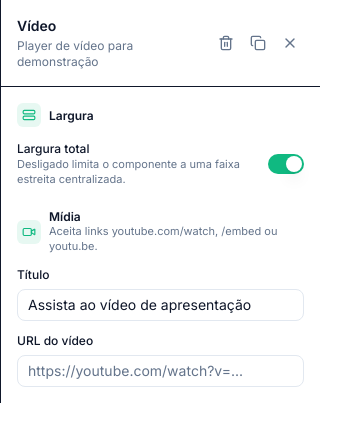
Test: PropertyPanel: novos controles › URL de vídeo mostra validação ao vivo
The width and height of the screenshot is (337, 448).
Type "notaurl" into the field with placeholder "https://youtube.com/watch?v=..." at [160, 370], box [17,354,304,386]
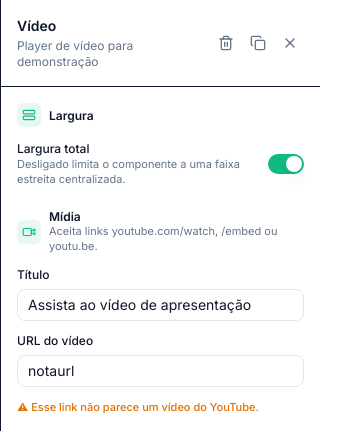
expect the text "⚠ Esse link não parece um vídeo do YouTube." is shown: met, box [17,400,259,414]
Replace the text in the field with placeholder "https://youtube.com/watch?v=..." below "URL do vídeo" with "https://www.youtube.com/watch?v=dQw4w9WgXcQ" at [160, 370], box [17,354,304,386]
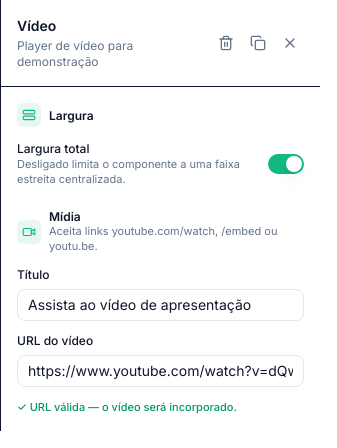
expect the text "✓ URL válida — o vídeo será incorporado." is shown: met, box [17,400,237,414]
